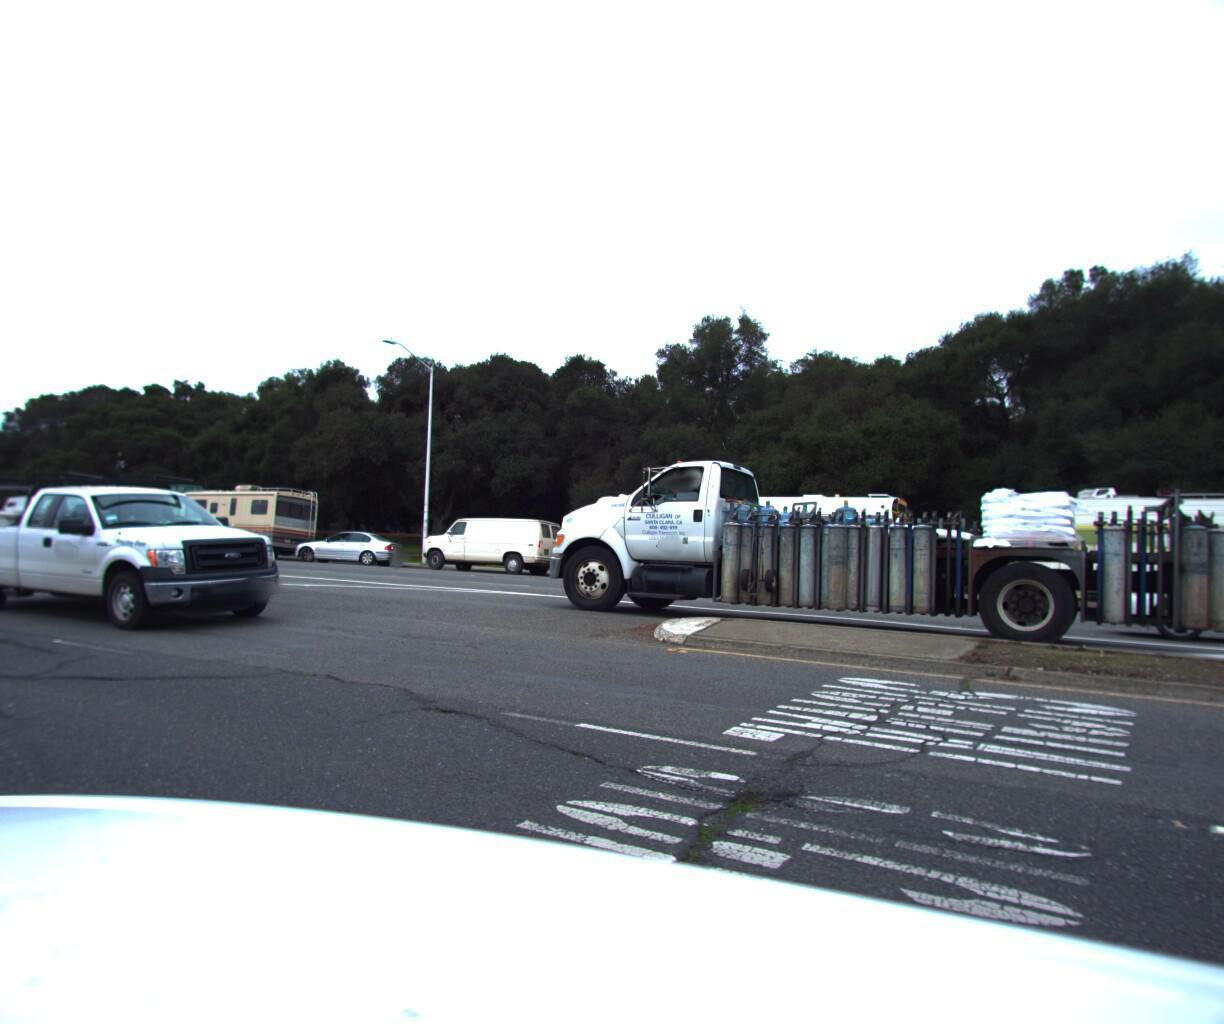bus: (538, 479, 926, 602)
car: (0, 459, 312, 634), (1107, 515, 1224, 664), (288, 523, 411, 563), (0, 506, 21, 541)
other_vehicle: (963, 480, 1224, 618), (0, 486, 105, 546)
truck: (518, 432, 1224, 665), (141, 474, 325, 560), (393, 506, 572, 575)
